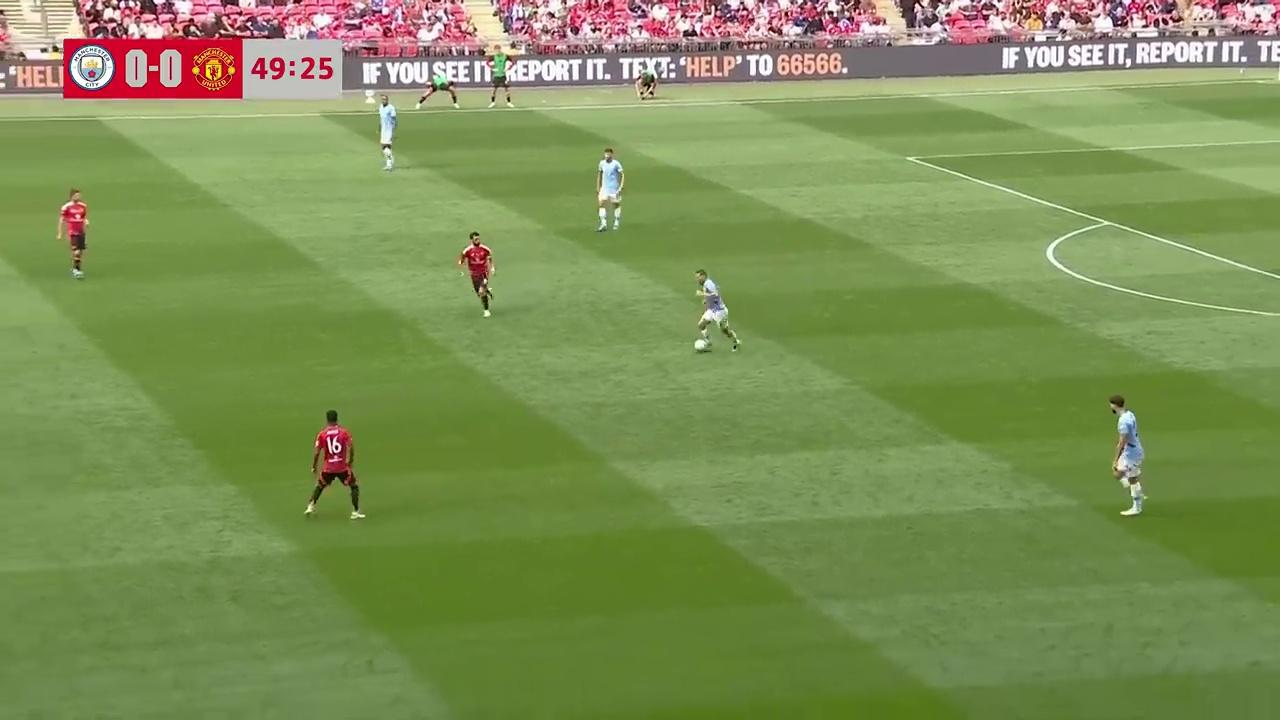ball: (693, 336, 707, 353)
player: (303, 410, 365, 520), (1109, 396, 1146, 515), (693, 270, 741, 353), (457, 231, 495, 316), (57, 187, 89, 279), (596, 148, 624, 231), (378, 98, 396, 171)
